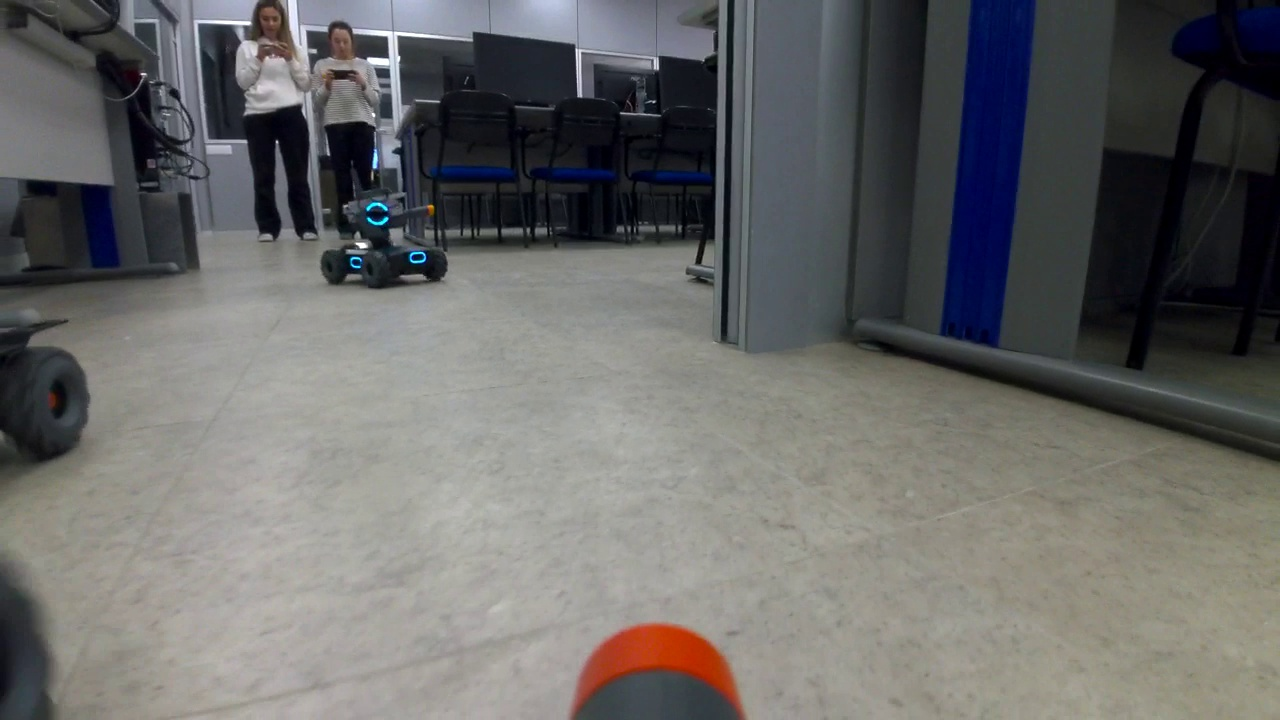robot: (322, 183, 449, 292)
